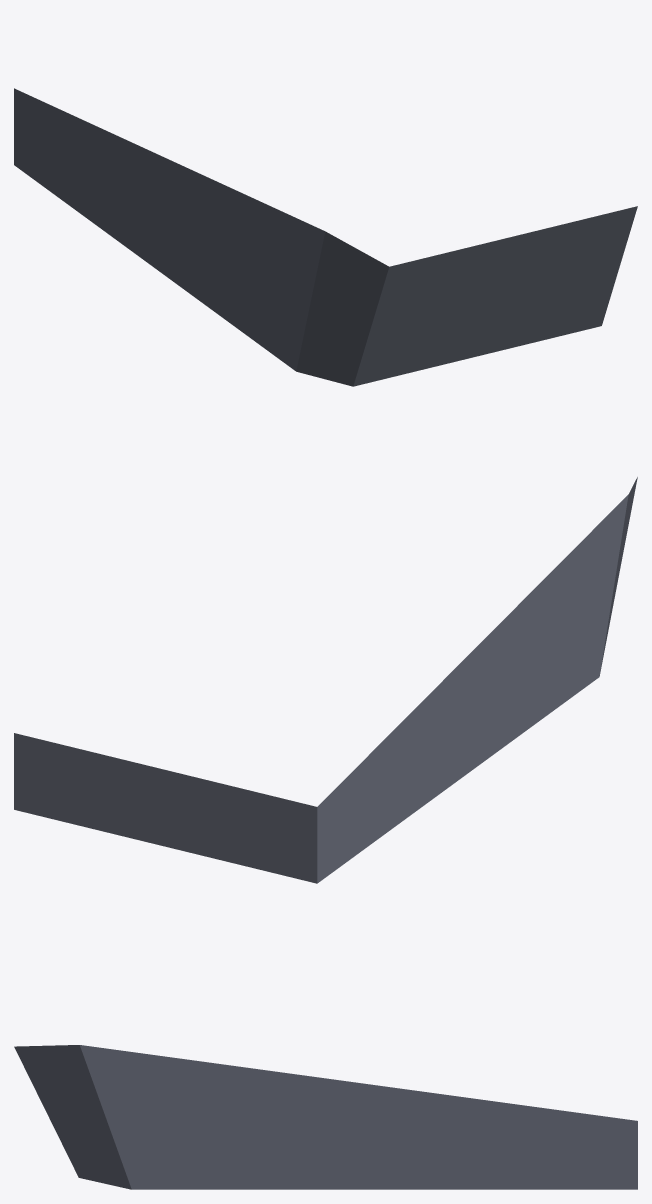
File: SnowRampRock.glb
3 views of the same model, one above another, from view 1: azimuth 30°, elevation 25°; view 2: azimuth 150°, elevation 25°; view 3: azimuth 270°, elevation 25° (orthographic). The views are drawn at different scales.
Parts seen in each view (by area): view 1: SnowRampRock; view 2: SnowRampRock; view 3: SnowRampRock.
Part boxes in pixels (box(x1,y1,x2,y2)): SnowRampRock: box(14, 88, 637, 386); SnowRampRock: box(14, 477, 637, 883); SnowRampRock: box(14, 1045, 637, 1189).
Size of the model in its own units: 2 by 1.02 by 3.98.
